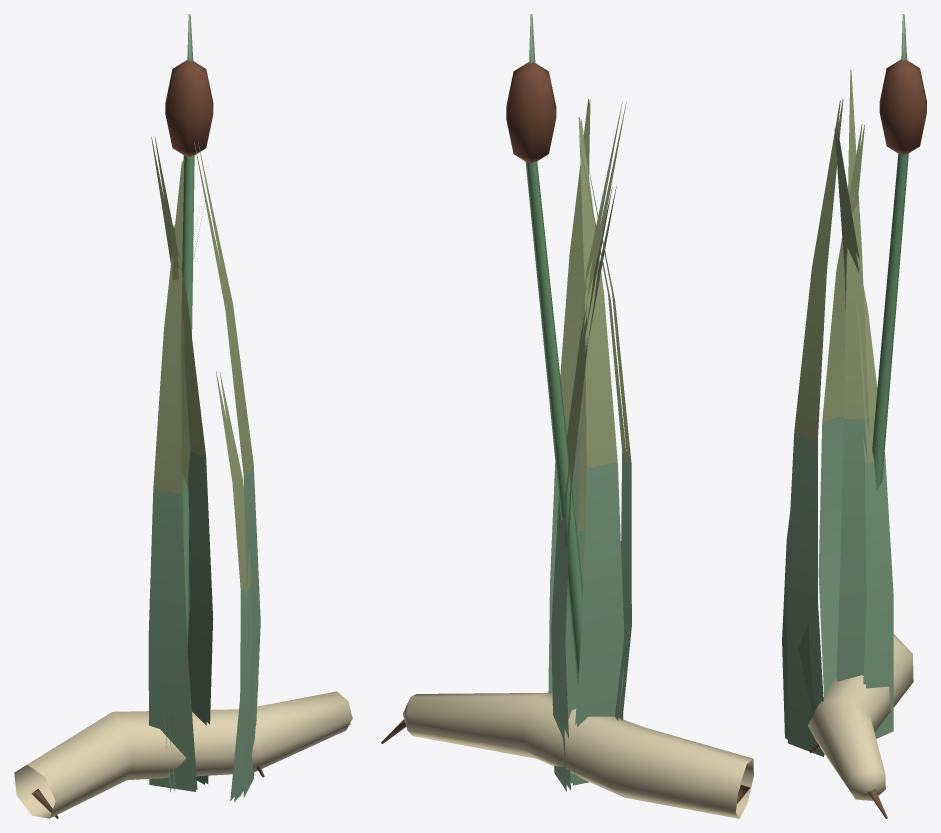
Rendered from ing_bulrush_root.gltf.
3 renders of one model, left to right at view 1: azimuth 30°, elevation 25°; view 2: azimuth 150°, elevation 25°; view 3: azimuth 270°, elevation 25°, orthographic. The views are drawn at different scales.
Visible parts, largest first — view 1: ing_bulrush_root; view 2: ing_bulrush_root; view 3: ing_bulrush_root.
Boxes of the visible parts, x1,y1,x2,y2 form: ing_bulrush_root: (14,14,352,818); ing_bulrush_root: (381,14,753,818); ing_bulrush_root: (782,14,926,818).
Size of what is drawn, in the model's own units: 0.2835 by 0.5931 by 0.1063.
